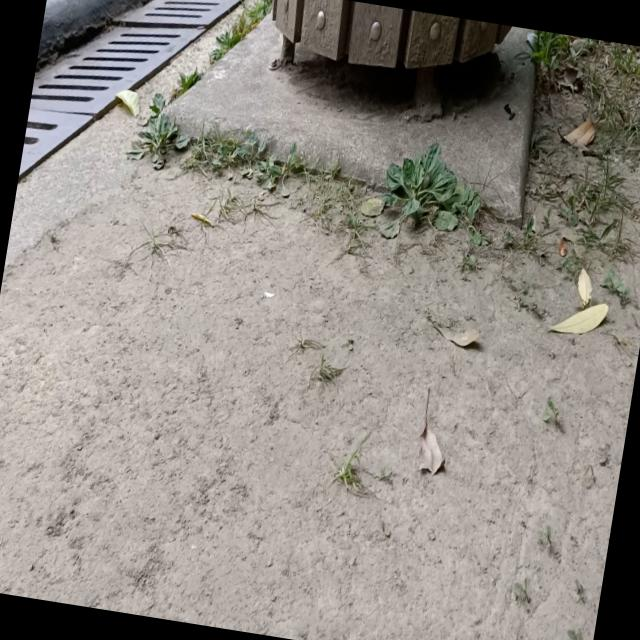grass: (384, 143, 457, 222)
white-sand: (0, 110, 640, 640)
